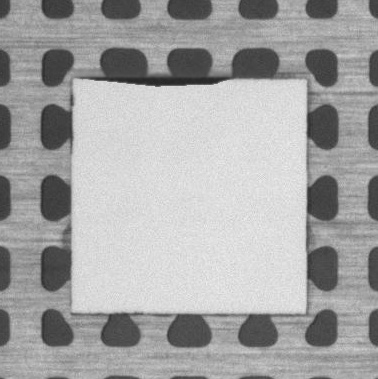DIE_BROKEN: (82, 71, 233, 86)
